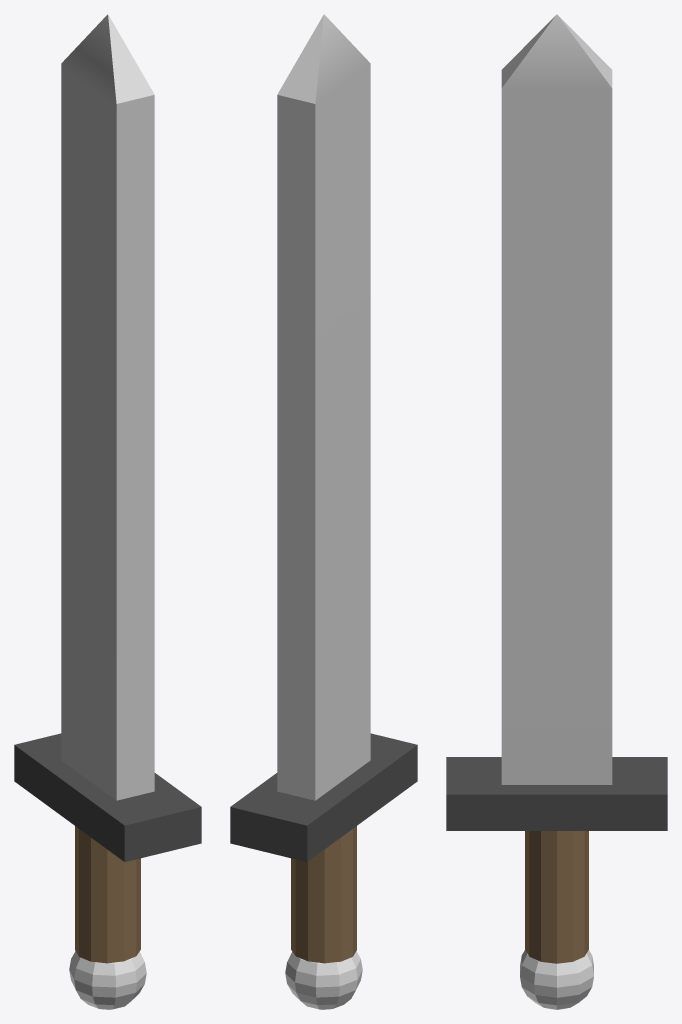
File: Sword_Material.fbx
3 views of the same model, side by side, from view 1: azimuth 30°, elevation 25°; view 2: azimuth 150°, elevation 25°; view 3: azimuth 270°, elevation 25° (orthographic).
Visible parts, largest first — view 1: polySurface2; view 2: polySurface2; view 3: polySurface2.
Boxes of the visible parts, left/top/right/bottom form: polySurface2: left=14, top=14, right=201, bottom=1009; polySurface2: left=230, top=14, right=417, bottom=1009; polySurface2: left=446, top=14, right=667, bottom=1009.
Bounding box in the file's own units: 5.39 × 66.42 × 13.4.
